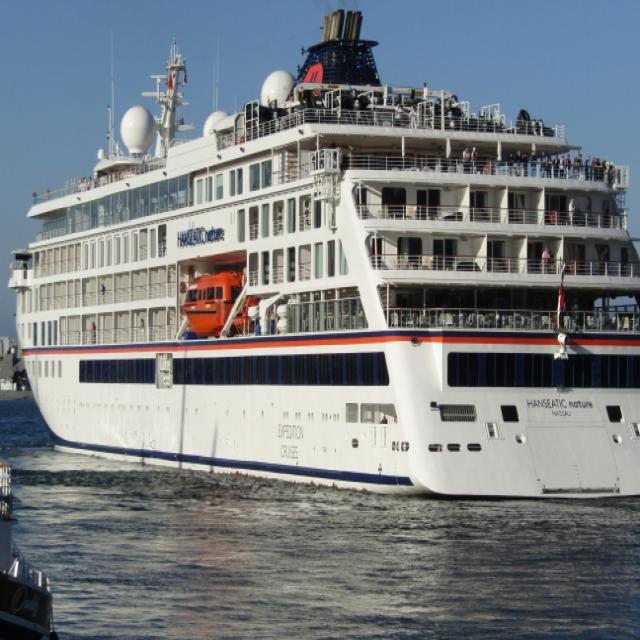cruises: (6, 6, 640, 515)
